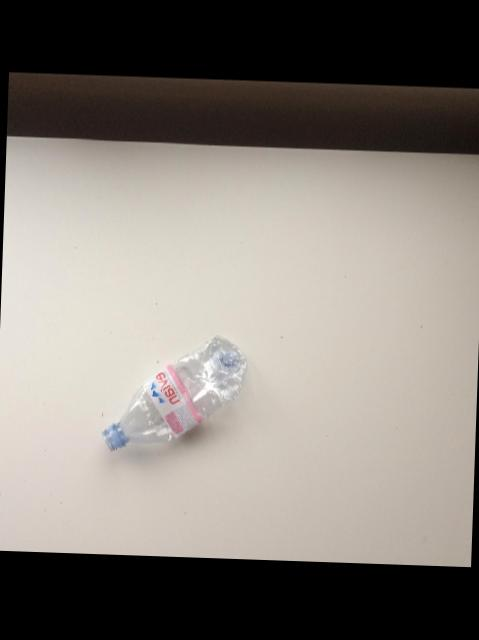plastic: (102, 336, 246, 451)
